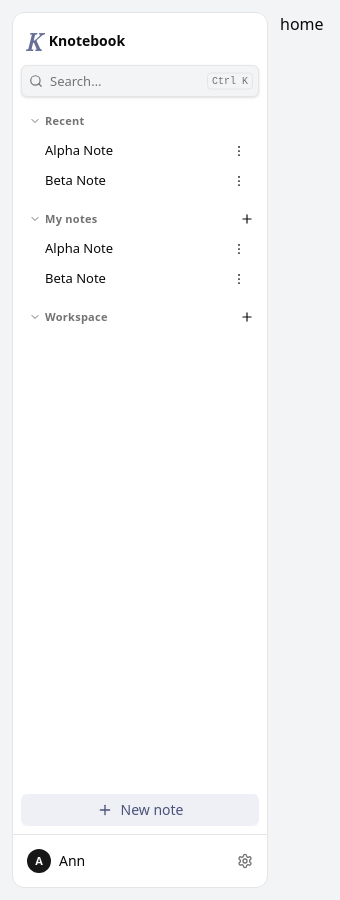
Test: AppShell — search box & Ctrl/Cmd+K › real path: typing in the search box actually shrinks the sidebar note list (AppShell → NoteList query wiring)
Expected: the 1st link "Beta Note" is shown, x1=45 y1=171 x2=106 y2=189
Type "Alpha" into the field named "Search notes" at (140, 81), box x1=21 y1=65 x2=259 y2=97
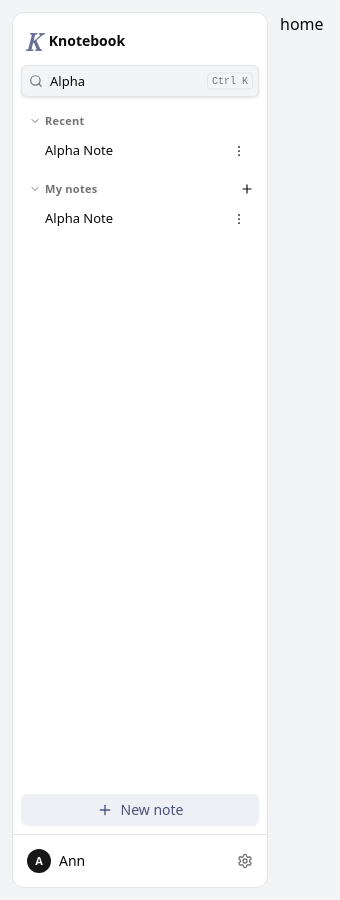
Expected: the 1st link "Alpha Note" is shown, x1=45 y1=141 x2=113 y2=159
Expected: no links "Beta Note" are shown
